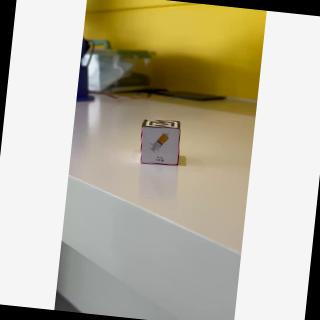Syringe: (139, 126, 187, 171)
